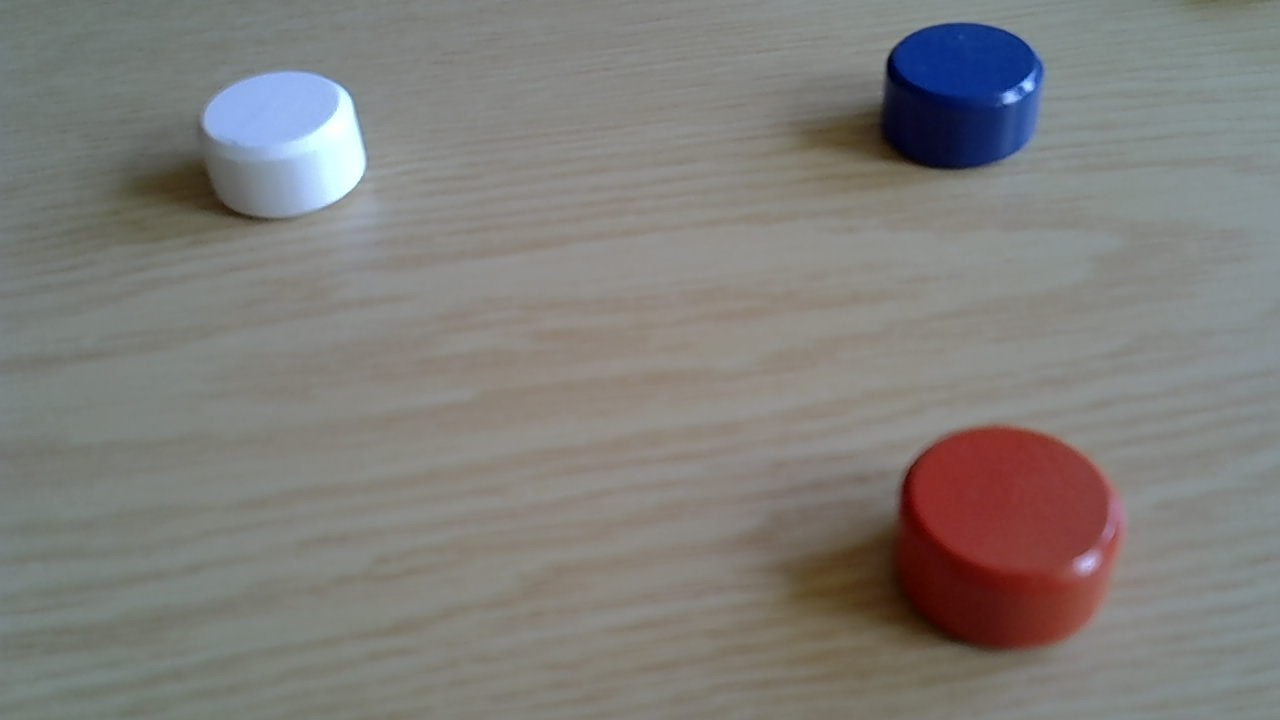WerkStueck: (892, 425, 1126, 657), (199, 67, 370, 219), (879, 20, 1044, 173)
